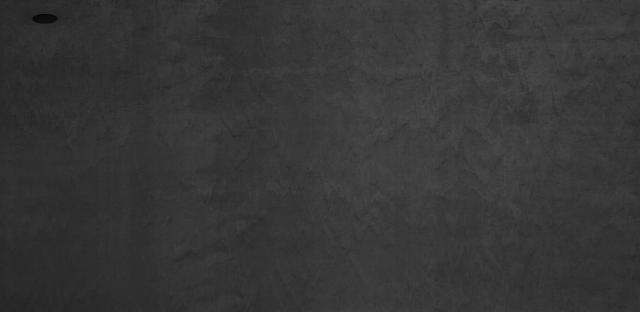punching_hole: (27, 11, 61, 27)
silk_spot: (69, 8, 635, 302)
